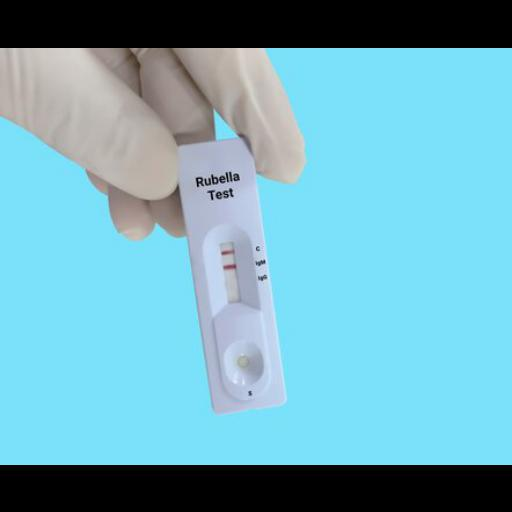Pos: (175, 135, 287, 413)
